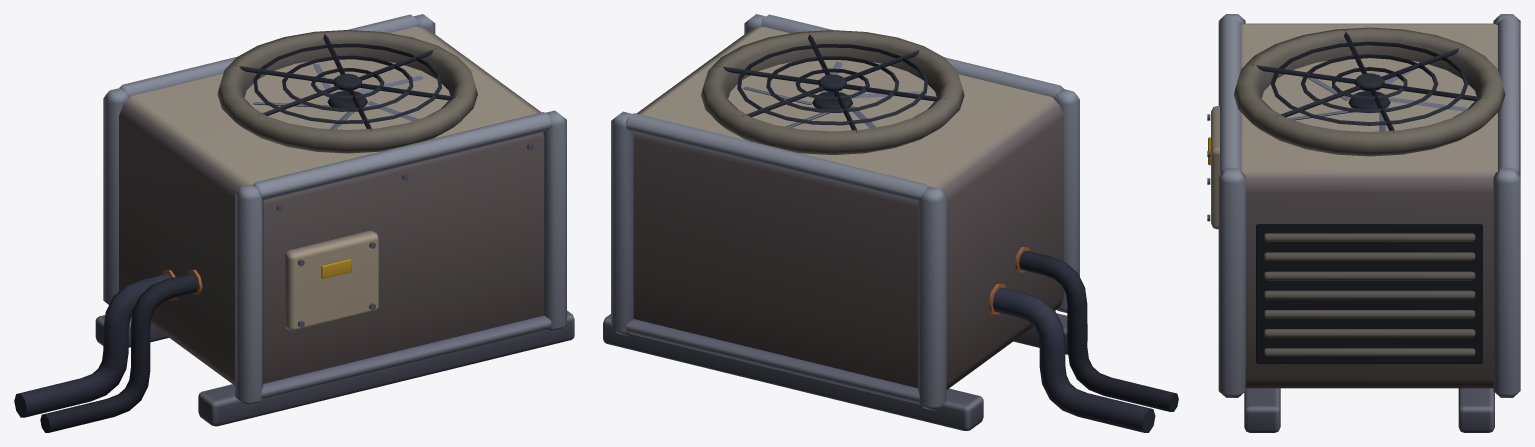
The model's file is clim.glb.
The picture shows the model from 3 angles, left to right: view 1: azimuth 30°, elevation 25°; view 2: azimuth 150°, elevation 25°; view 3: azimuth 270°, elevation 25°; orthographic projection. The views are drawn at different scales.
Visible parts, largest first — view 1: clim, helice; view 2: clim, helice; view 3: clim, helice.
Boxes of the visible parts, box(x1,y1,x2,y2) form: clim: box(14, 14, 574, 432); helice: box(253, 63, 422, 129); clim: box(603, 14, 1178, 432); helice: box(743, 61, 922, 128); clim: box(1207, 14, 1520, 432); helice: box(1289, 69, 1466, 131).
Size of the model in its own units: 1.95 by 1.01 by 1.04.
